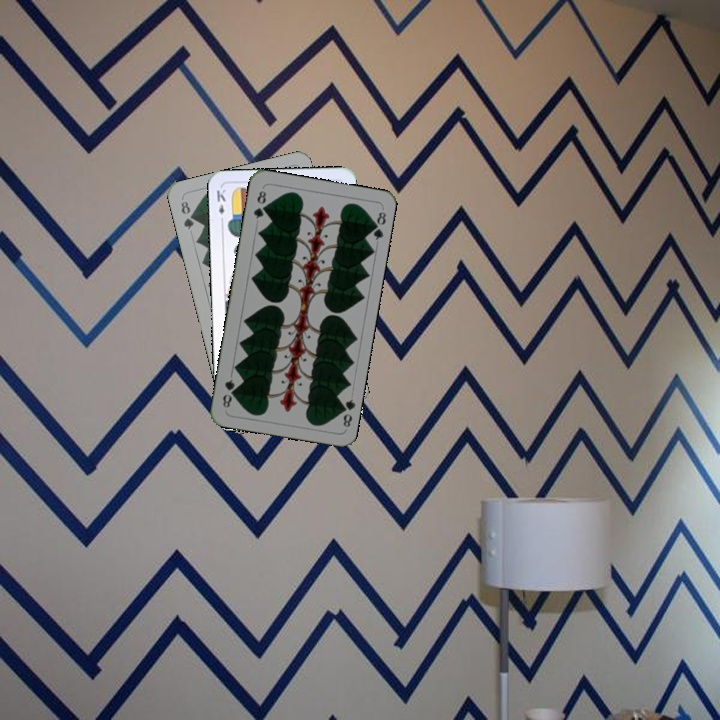EK: (212, 185, 228, 226)
G8: (335, 395, 357, 430), (177, 197, 197, 232), (249, 186, 269, 221)
